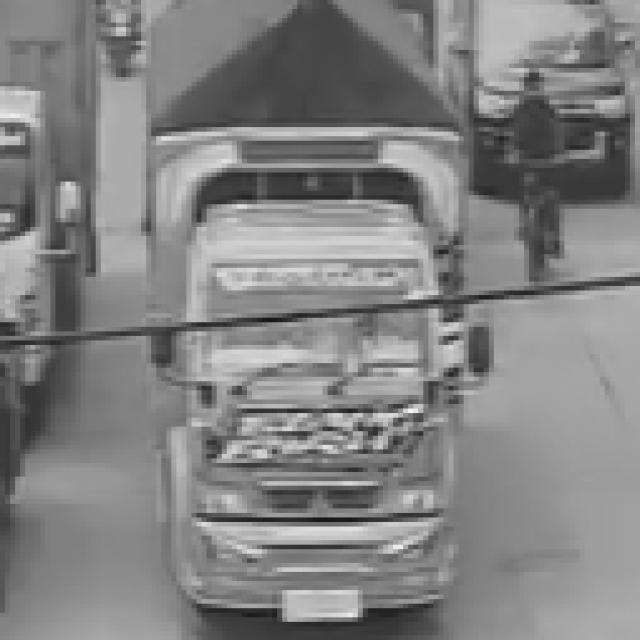Truck: (141, 0, 499, 631)
